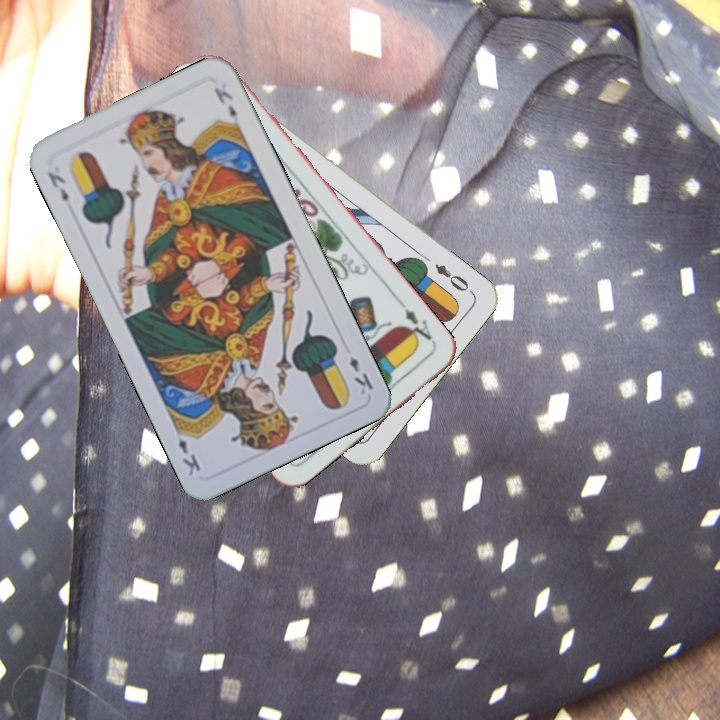EA: (400, 305, 438, 348)
EK: (345, 352, 376, 398), (43, 167, 71, 205)
EO: (430, 259, 476, 296)
